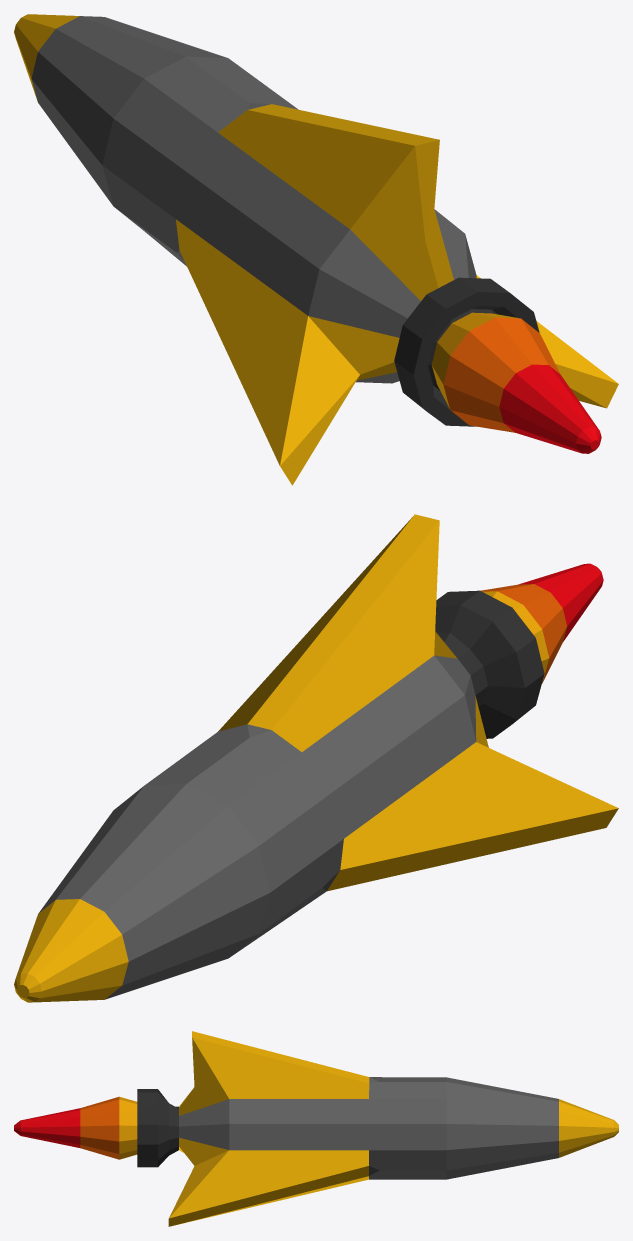
File: SlowRocket.fbx
3 renders of one model, top to bottom at view 1: azimuth 30°, elevation 25°; view 2: azimuth 150°, elevation 25°; view 3: azimuth 270°, elevation 25°, orthographic. The views are drawn at different scales.
Visible parts, largest first — view 1: Cylinder; view 2: Cylinder; view 3: Cylinder.
Boxes of the visible parts, box(x1,y1,x2,y2) form: Cylinder: box(14, 14, 618, 485); Cylinder: box(14, 514, 618, 1002); Cylinder: box(14, 1031, 618, 1226).
Bounding box in the file's own units: 403 × 328 × 1179.
